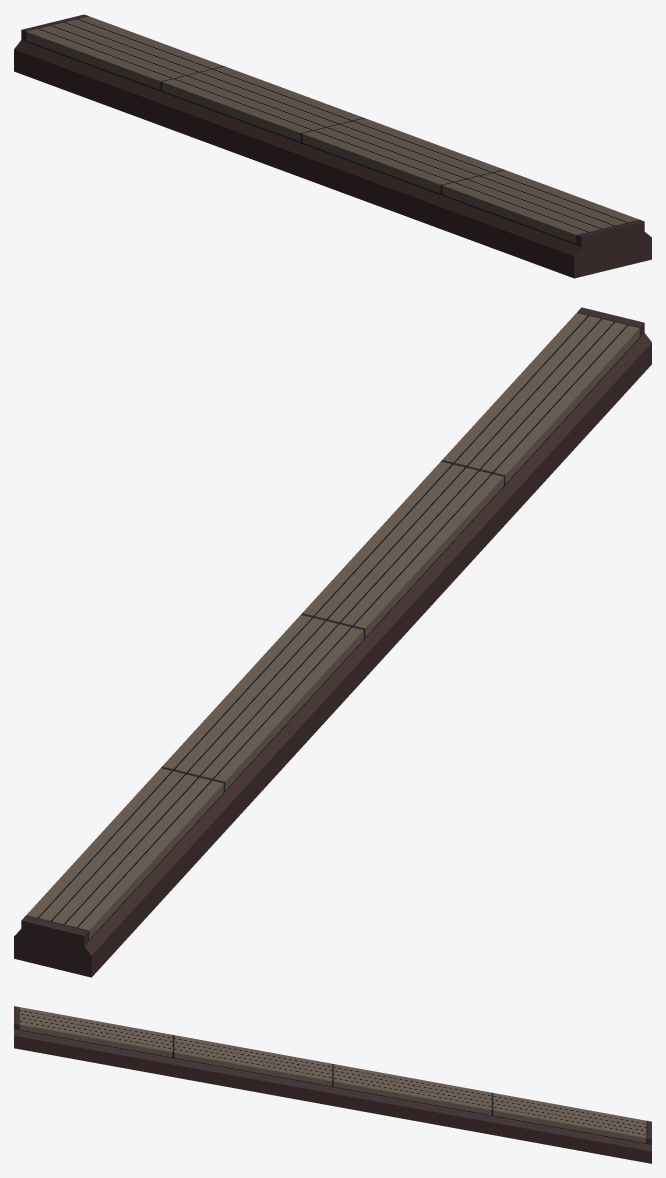
File: SW_ENV_EL_TrackBase_Walkway_Central_Rise_20m.fbx
The picture shows the model from 3 angles, top to bottom: view 1: azimuth 30°, elevation 25°; view 2: azimuth 150°, elevation 25°; view 3: azimuth 270°, elevation 25°; orthographic projection. The views are drawn at different scales.
Visible parts, largest first — view 1: SW_ENV_EL_TrackBase_Walkway_Central_Rise_20m; view 2: SW_ENV_EL_TrackBase_Walkway_Central_Rise_20m; view 3: SW_ENV_EL_TrackBase_Walkway_Central_Rise_20m.
Boxes of the visible parts, x1=… form: SW_ENV_EL_TrackBase_Walkway_Central_Rise_20m: x1=14, y1=14, x2=651, y2=278; SW_ENV_EL_TrackBase_Walkway_Central_Rise_20m: x1=14, y1=307, x2=651, y2=977; SW_ENV_EL_TrackBase_Walkway_Central_Rise_20m: x1=14, y1=1006, x2=651, y2=1163.
Size of the model in its own units: 160 by 478 by 2000.
